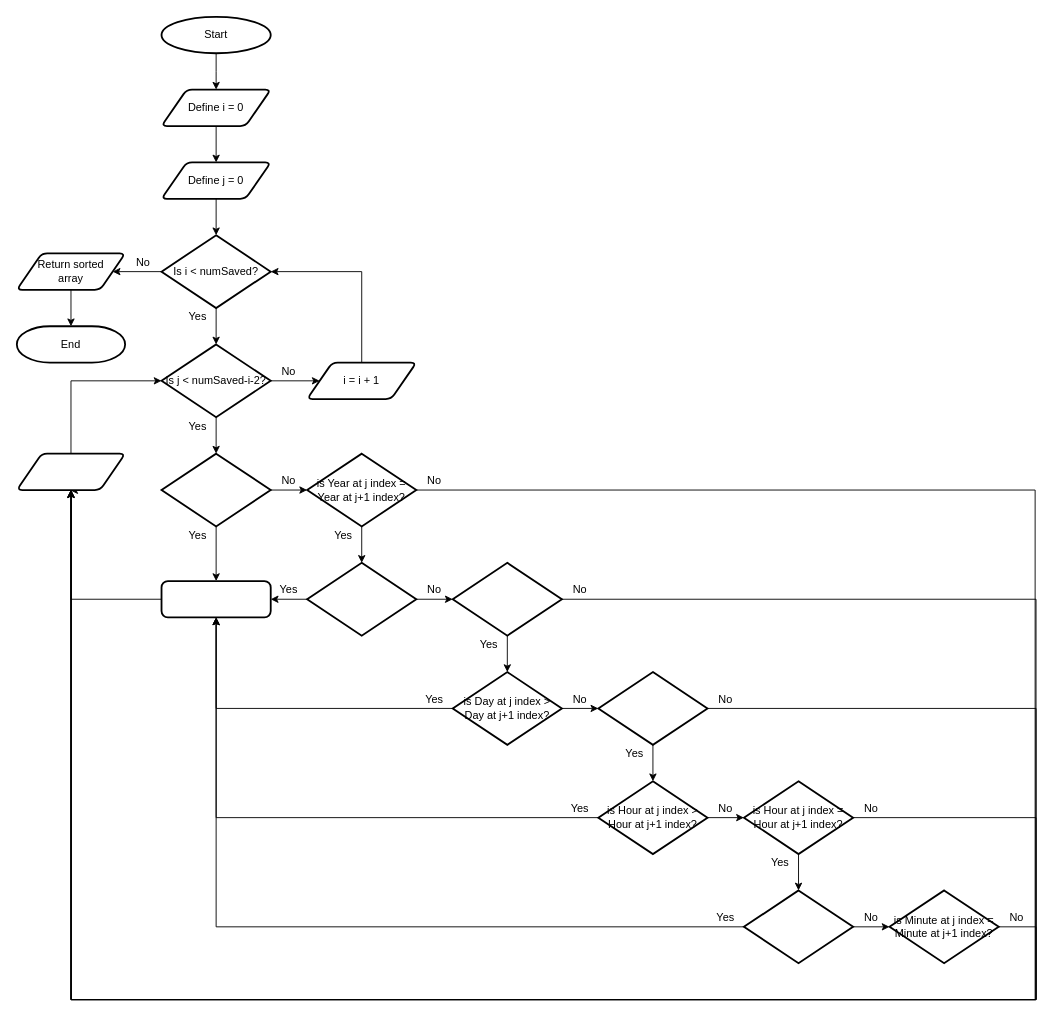
This 1059x1023 diagram has some shape labels left out. Each missing label, with the box of its shape:
is Day at j index = Day at j+1 index?: (597, 671, 708, 745)
is Minute at j index > Minute at j+1 index?: (743, 889, 854, 964)
is Month at j index = Month at j+1 index?: (451, 561, 562, 636)
is Month at j index > Month at j+1 index?: (306, 561, 417, 636)
is Year at j index > Year at j+1 index?: (160, 452, 271, 527)
j = j + 1: (15, 452, 126, 490)
Swap events at index j and index j+1: (160, 580, 271, 618)
